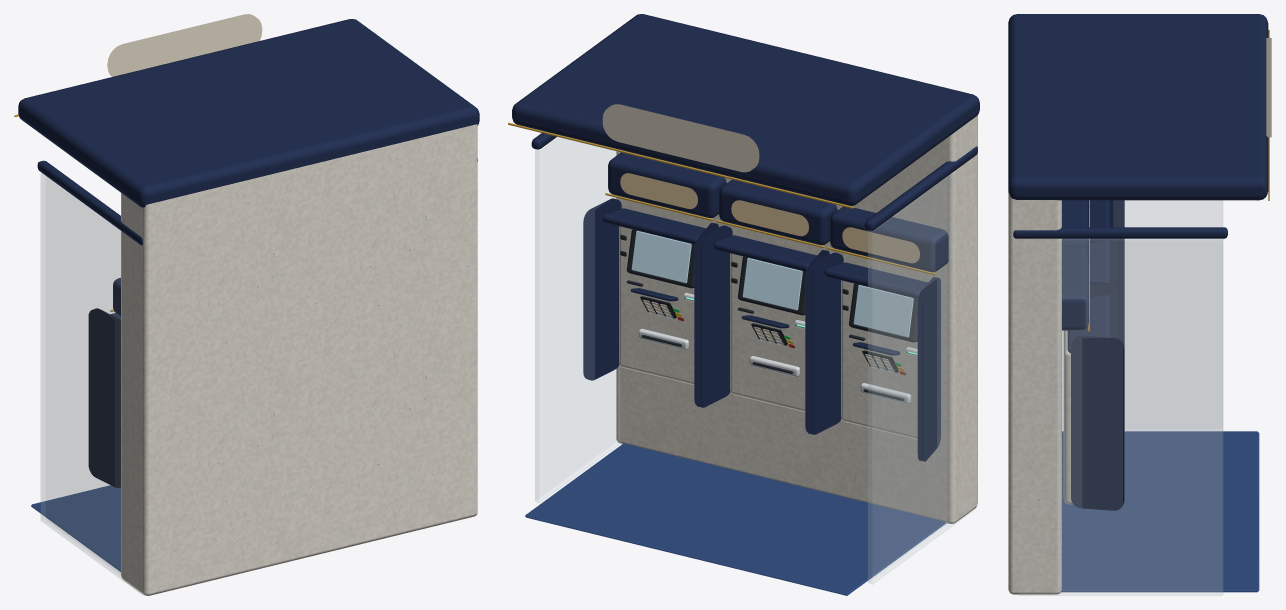
File: atm_T3.fbx
3 views of the same model, side by side, from view 1: azimuth 30°, elevation 25°; view 2: azimuth 150°, elevation 25°; view 3: azimuth 270°, elevation 25° (orthographic). The views are drawn at different scales.
Visible parts, largest first — view 1: Body; view 2: Body; view 3: Body.
Boxes of the visible parts, <box> form: Body: <box>14,14,479,595</box>; Body: <box>508,14,979,595</box>; Body: <box>1008,14,1271,595</box>.
Bounding box in the file's own units: 2.24 × 2.73 × 1.47.
